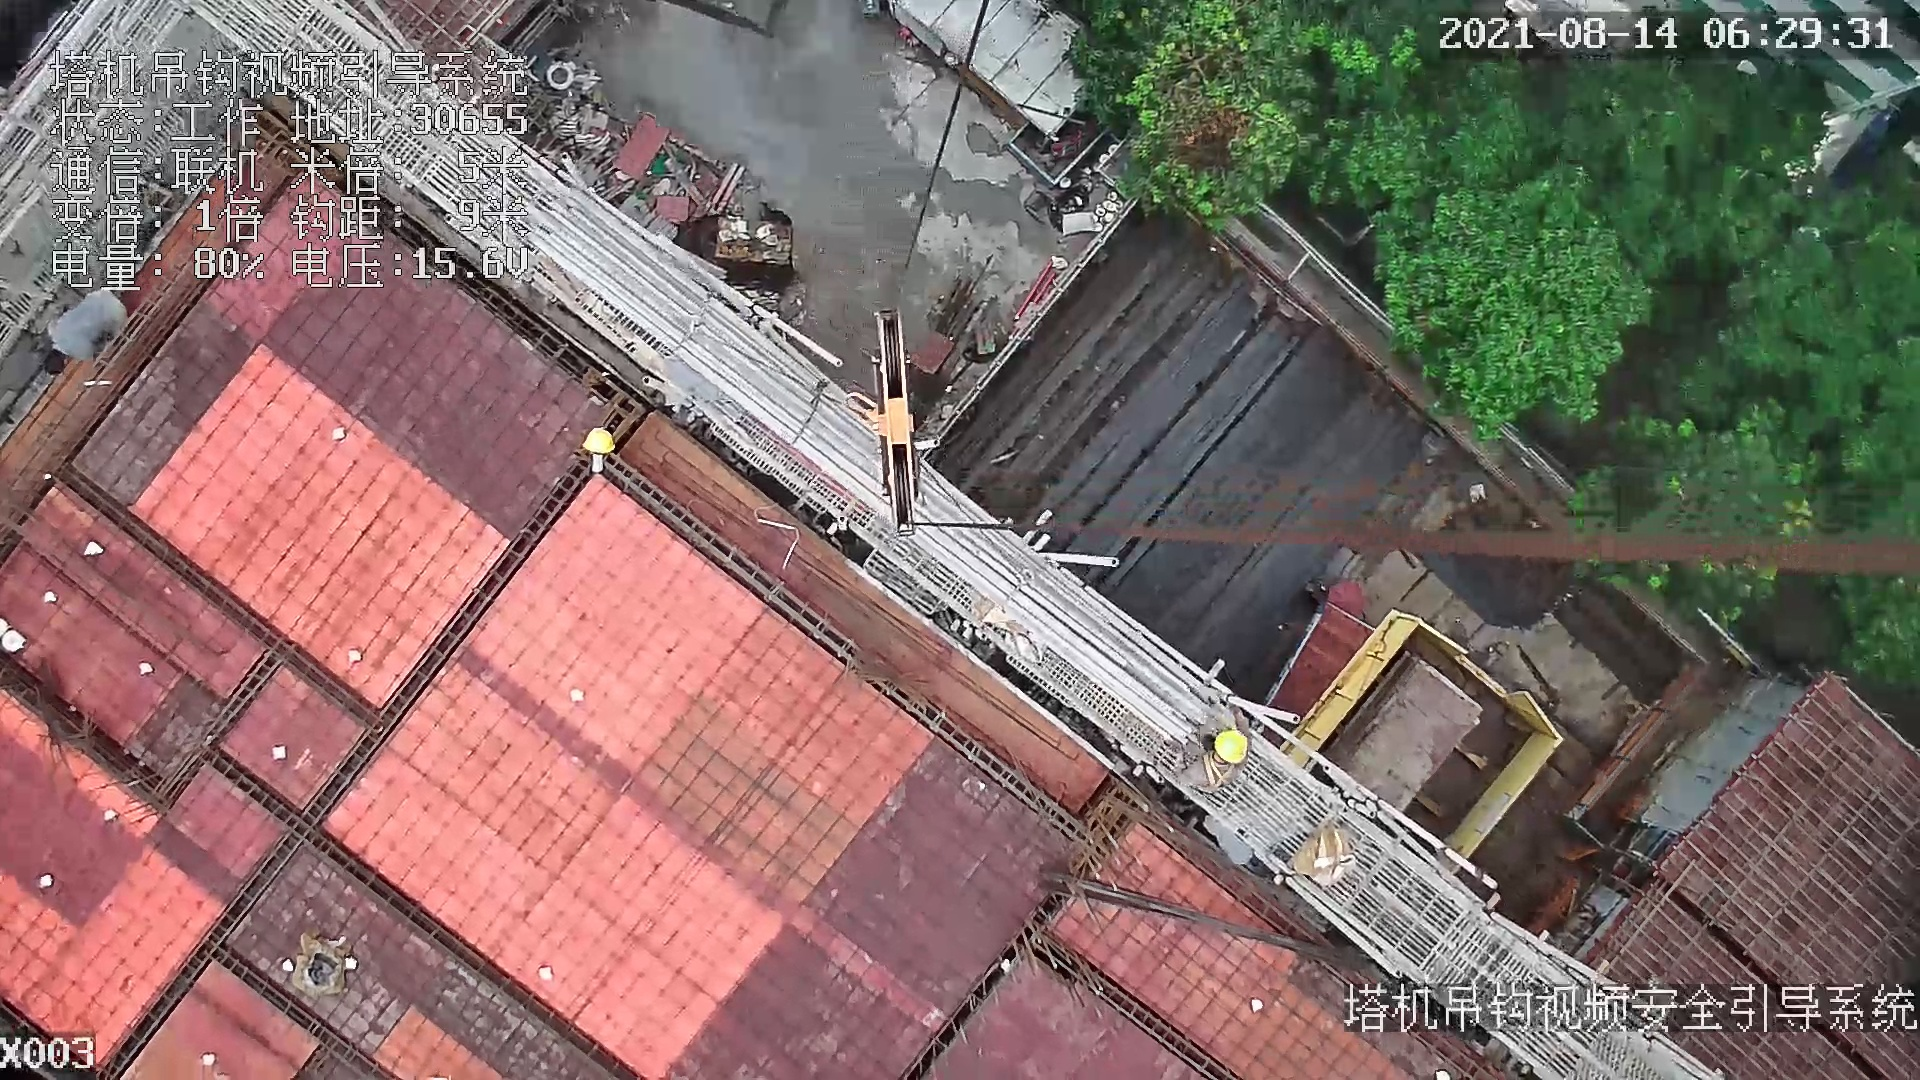helmet: (1210, 726, 1254, 762), (578, 428, 617, 459)
hook: (863, 312, 918, 540)
person: (1181, 701, 1256, 803)
rebar: (964, 222, 1409, 656)
